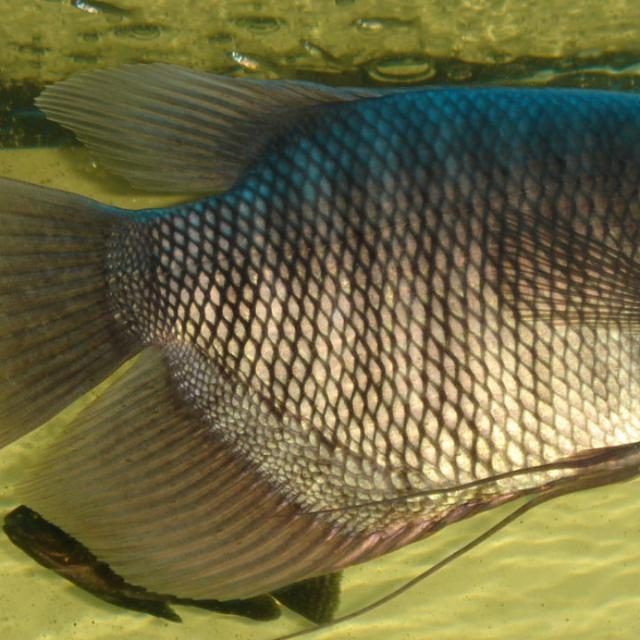Sirip Anal: (0, 323, 476, 612)
Sirip Punggung: (22, 25, 352, 218)
